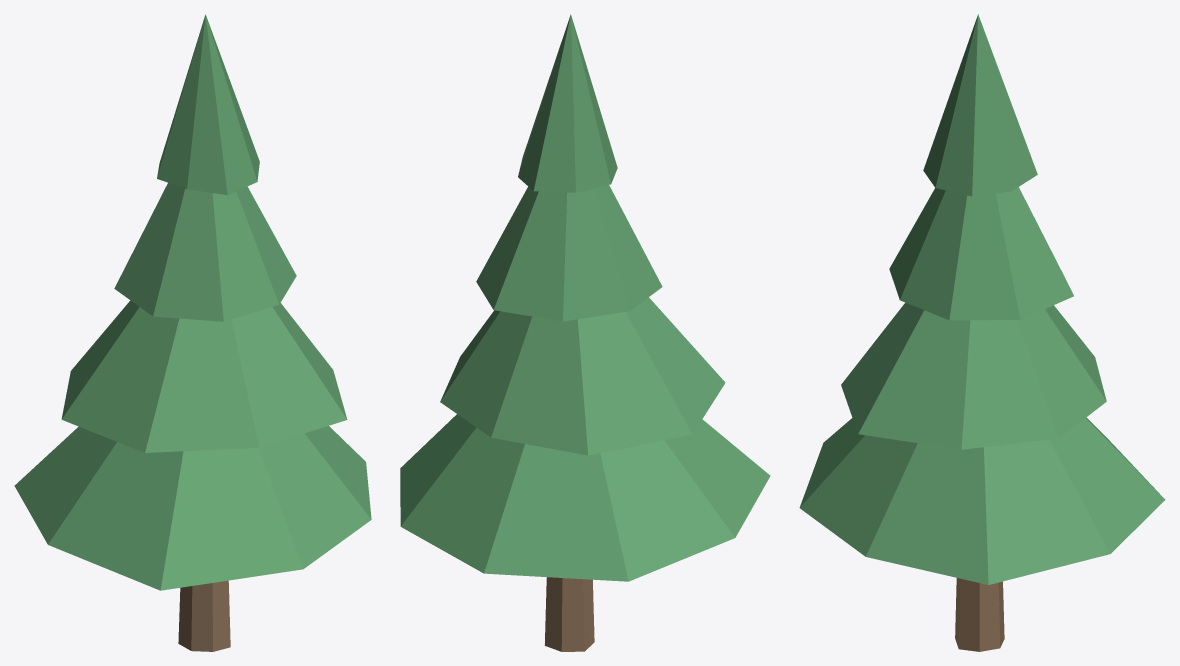
The model's file is Tree_Pine_A.fbx.
3 views of the same model, side by side, from view 1: azimuth 30°, elevation 25°; view 2: azimuth 150°, elevation 25°; view 3: azimuth 270°, elevation 25° (orthographic).
Visible parts, largest first — view 1: Tree_Pine_A; view 2: Tree_Pine_A; view 3: Tree_Pine_A.
Boxes of the visible parts, x1,y1,x2,y2 form: Tree_Pine_A: [14, 14, 371, 651]; Tree_Pine_A: [400, 14, 770, 651]; Tree_Pine_A: [799, 14, 1165, 651].
Bounding box in the file's own units: 5.98 × 11.01 × 5.82.
